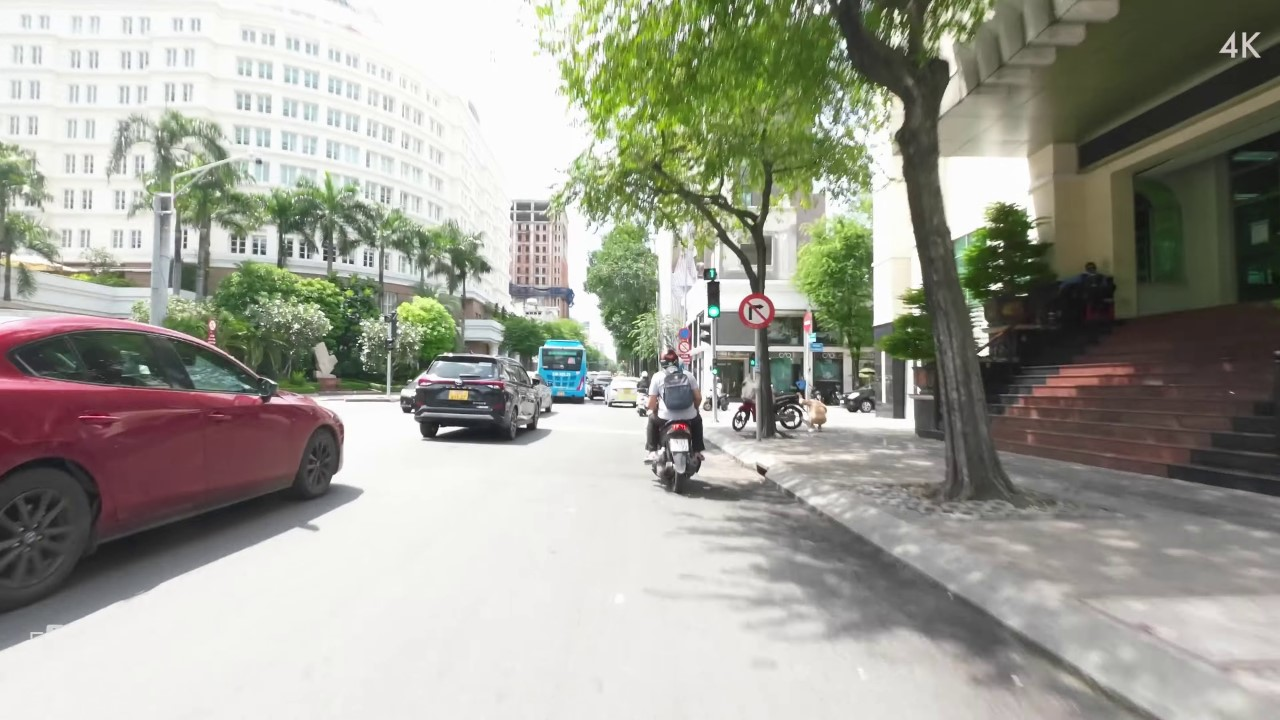cam_re_phai: (736, 291, 776, 330)
